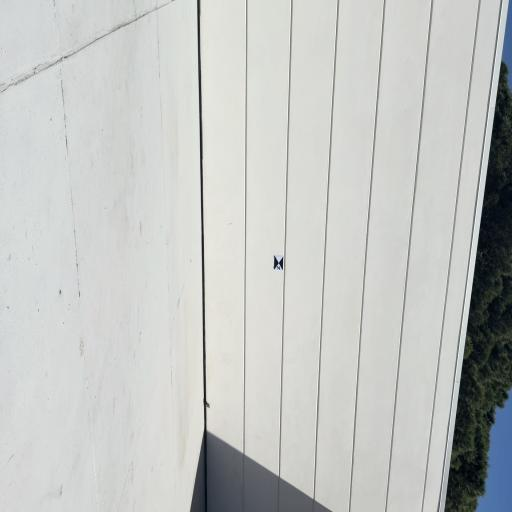target7: (274, 255, 283, 271)
